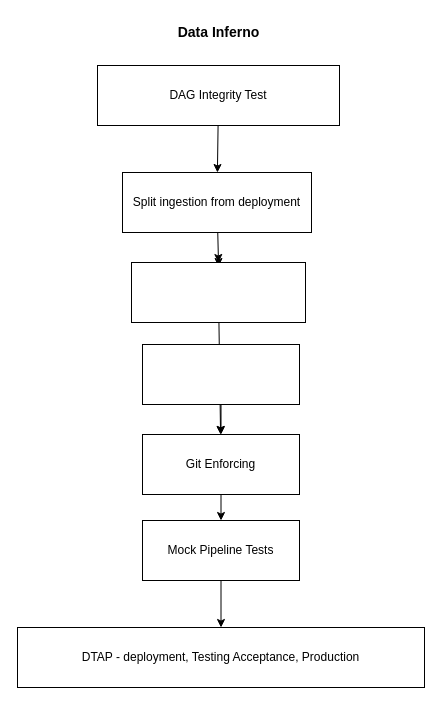
This 442x705 diagram has some shape labels left out. The shapes that lost their labels are listed below. From the top down, each one's box as (x1, y1, x2, y2) in pixels, then its label:
(130, 262, 306, 322): Data Test
(142, 344, 300, 404): Alerting
